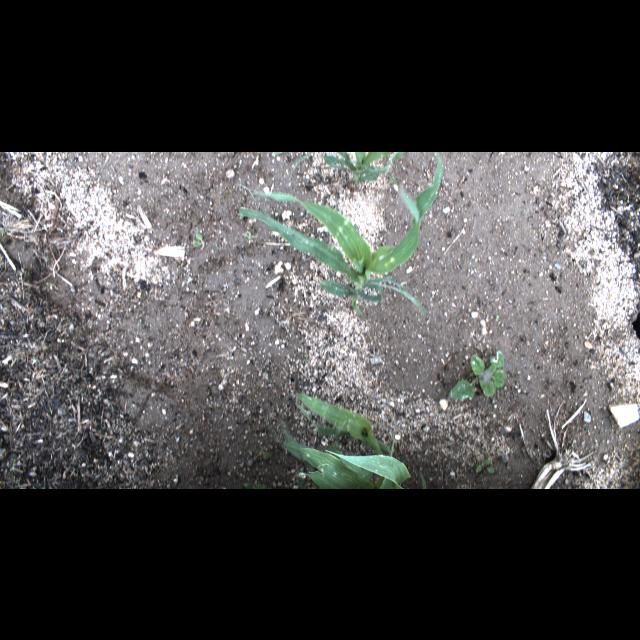crop: (240, 152, 442, 316), (282, 428, 410, 488), (295, 392, 395, 456), (322, 151, 404, 181), (292, 152, 316, 176), (419, 471, 425, 487)
weed: (450, 353, 508, 401), (476, 456, 496, 474), (250, 447, 274, 459), (242, 480, 268, 488), (243, 230, 259, 240), (193, 232, 203, 246), (270, 151, 284, 155), (46, 281, 52, 287)
